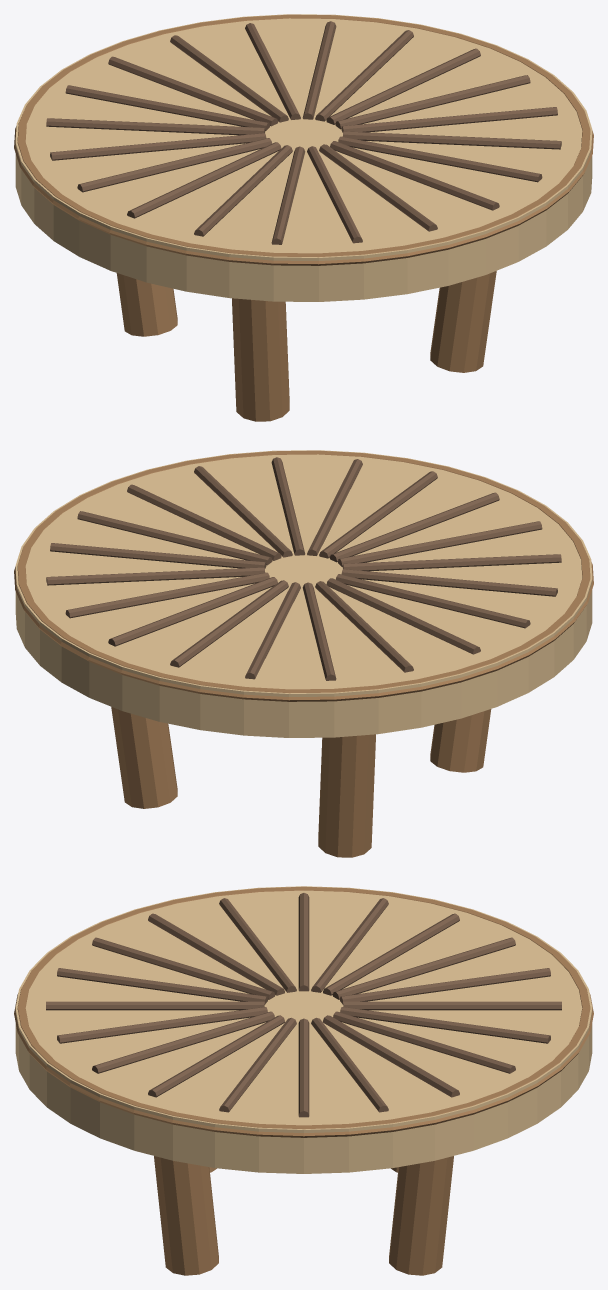
File: woodwork_chabudai.glb
3 renders of one model, top to bottom at view 1: azimuth 30°, elevation 25°; view 2: azimuth 150°, elevation 25°; view 3: azimuth 270°, elevation 25°, orthographic.
Parts seen in each view (by area): view 1: Solid circular chabudai tabletop, Finely milled chabudai edge, Foldable wooden chabudai leg.002, Foldable wooden chabudai leg.003, Foldable wooden chabudai leg.001, Tabletop carved planks8, Tabletop carved planks18, Tabletop carved planks9, Tabletop carved planks19, Tabletop carved planks17, Tabletop carved planks7, Tabletop carved planks10 (+13 smaller); view 2: Solid circular chabudai tabletop, Finely milled chabudai edge, Foldable wooden chabudai leg.001, Foldable wooden chabudai leg, Foldable wooden chabudai leg.002, Tabletop carved planks12, Tabletop carved planks2, Tabletop carved planks11, Tabletop carved planks1, Tabletop carved planks3, Tabletop carved planks13, Tabletop carved planks10 (+13 smaller); view 3: Solid circular chabudai tabletop, Finely milled chabudai edge, Foldable wooden chabudai leg, Foldable wooden chabudai leg.003, Tabletop carved planks5, Tabletop carved planks15, Tabletop carved planks4, Tabletop carved planks16, Tabletop carved planks6, Tabletop carved planks14, Tabletop carved planks3, Tabletop carved planks17 (+12 smaller).
Boxes of the visible parts, left/top/right/bottom form: Solid circular chabudai tabletop: left=15, top=14, right=592, bottom=301; Finely milled chabudai edge: left=14, top=14, right=593, bottom=265; Foldable wooden chabudai leg.002: left=232, top=298, right=289, bottom=421; Foldable wooden chabudai leg.003: left=430, top=271, right=496, bottom=372; Foldable wooden chabudai leg.001: left=116, top=273, right=177, bottom=336; Tabletop carved planks8: left=46, top=118, right=265, bottom=135; Tabletop carved planks18: left=343, top=131, right=561, bottom=149; Tabletop carved planks9: left=50, top=133, right=266, bottom=160; Tabletop carved planks19: left=341, top=107, right=557, bottom=132; Tabletop carved planks17: left=338, top=136, right=542, bottom=182; Tabletop carved planks7: left=65, top=85, right=269, bottom=130; Tabletop carved planks10: left=77, top=138, right=271, bottom=192; Solid circular chabudai tabletop: left=15, top=450, right=592, bottom=737; Finely milled chabudai edge: left=14, top=450, right=593, bottom=701; Foldable wooden chabudai leg.001: left=318, top=734, right=375, bottom=857; Foldable wooden chabudai leg: left=111, top=707, right=177, bottom=808; Foldable wooden chabudai leg.002: left=430, top=709, right=491, bottom=772; Tabletop carved planks12: left=342, top=554, right=561, bottom=571; Tabletop carved planks2: left=46, top=567, right=264, bottom=585; Tabletop carved planks11: left=341, top=569, right=557, bottom=596; Tabletop carved planks1: left=50, top=543, right=266, bottom=568; Tabletop carved planks3: left=65, top=572, right=269, bottom=618; Tabletop carved planks13: left=338, top=521, right=542, bottom=566; Tabletop carved planks10: left=336, top=574, right=530, bottom=628; Solid circular chabudai tabletop: left=15, top=886, right=592, bottom=1173; Finely milled chabudai edge: left=14, top=886, right=593, bottom=1137; Foldable wooden chabudai leg: left=389, top=1156, right=453, bottom=1275; Foldable wooden chabudai leg.003: left=154, top=1156, right=218, bottom=1275; Tabletop carved planks5: left=343, top=1001, right=561, bottom=1010; Tabletop carved planks15: left=46, top=1001, right=264, bottom=1010; Tabletop carved planks4: left=340, top=1007, right=550, bottom=1043; Tabletop carved planks16: left=57, top=1007, right=267, bottom=1043; Tabletop carved planks6: left=340, top=968, right=550, bottom=1004; Tabletop carved planks14: left=57, top=968, right=267, bottom=1004; Tabletop carved planks3: left=333, top=1011, right=515, bottom=1073; Tabletop carved planks17: left=92, top=1011, right=274, bottom=1073.
Bounding box in the file's own units: 1.95 × 0.8013 × 1.95.
